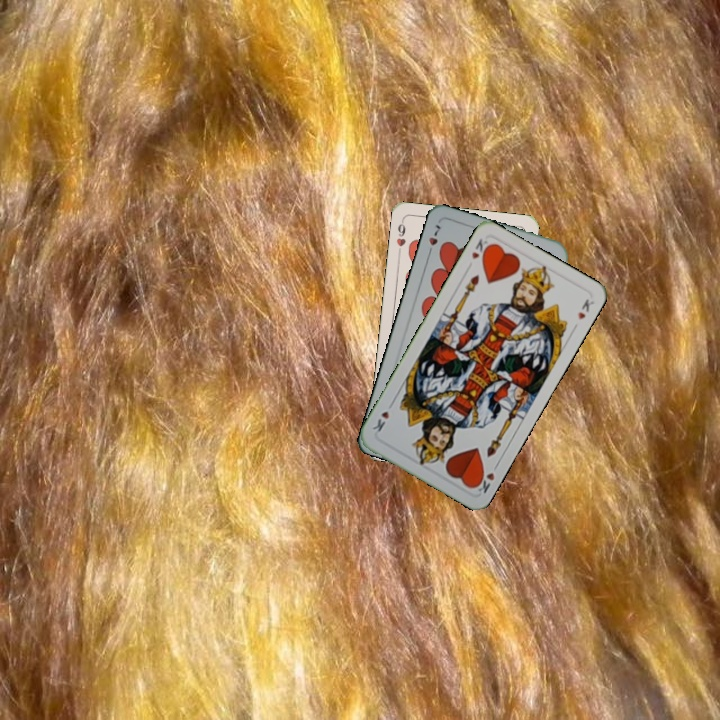H7: (423, 220, 444, 258)
H9: (392, 216, 408, 257)
HK: (470, 466, 497, 496), (467, 234, 493, 263)
